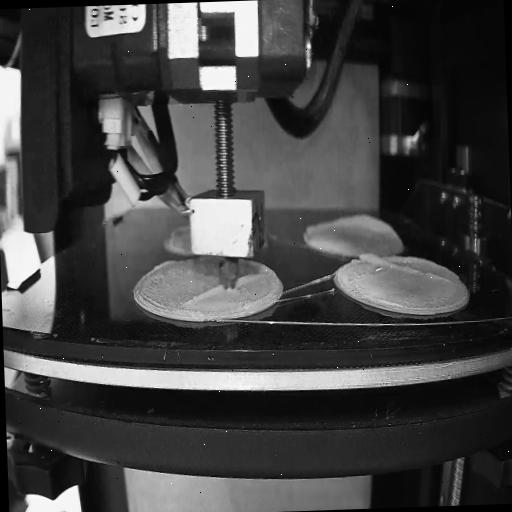over_extrusion: (358, 244, 454, 286), (304, 209, 398, 237), (182, 283, 222, 305), (234, 270, 272, 286)
